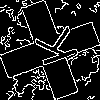K: (25, 25, 79, 72)
